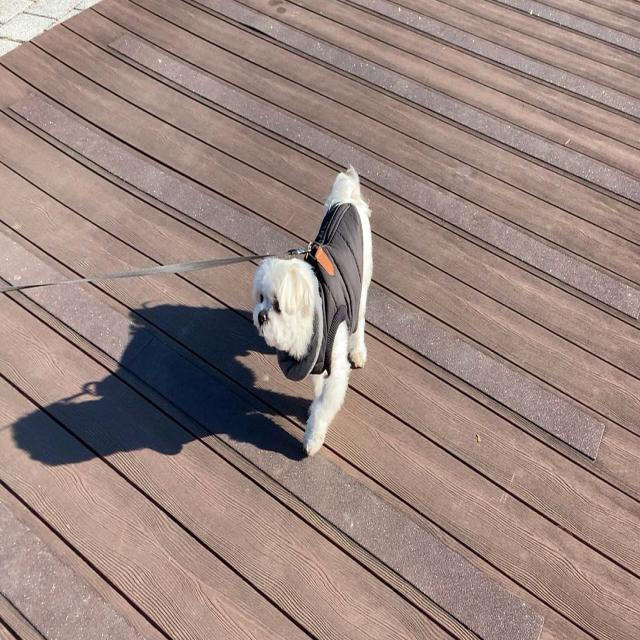Dog: (252, 163, 374, 456)
